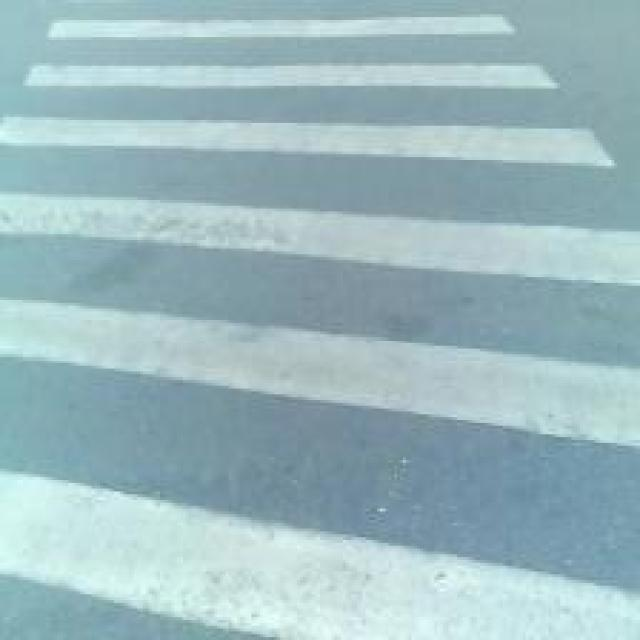zebra: (1, 2, 640, 638), (49, 6, 506, 6)
